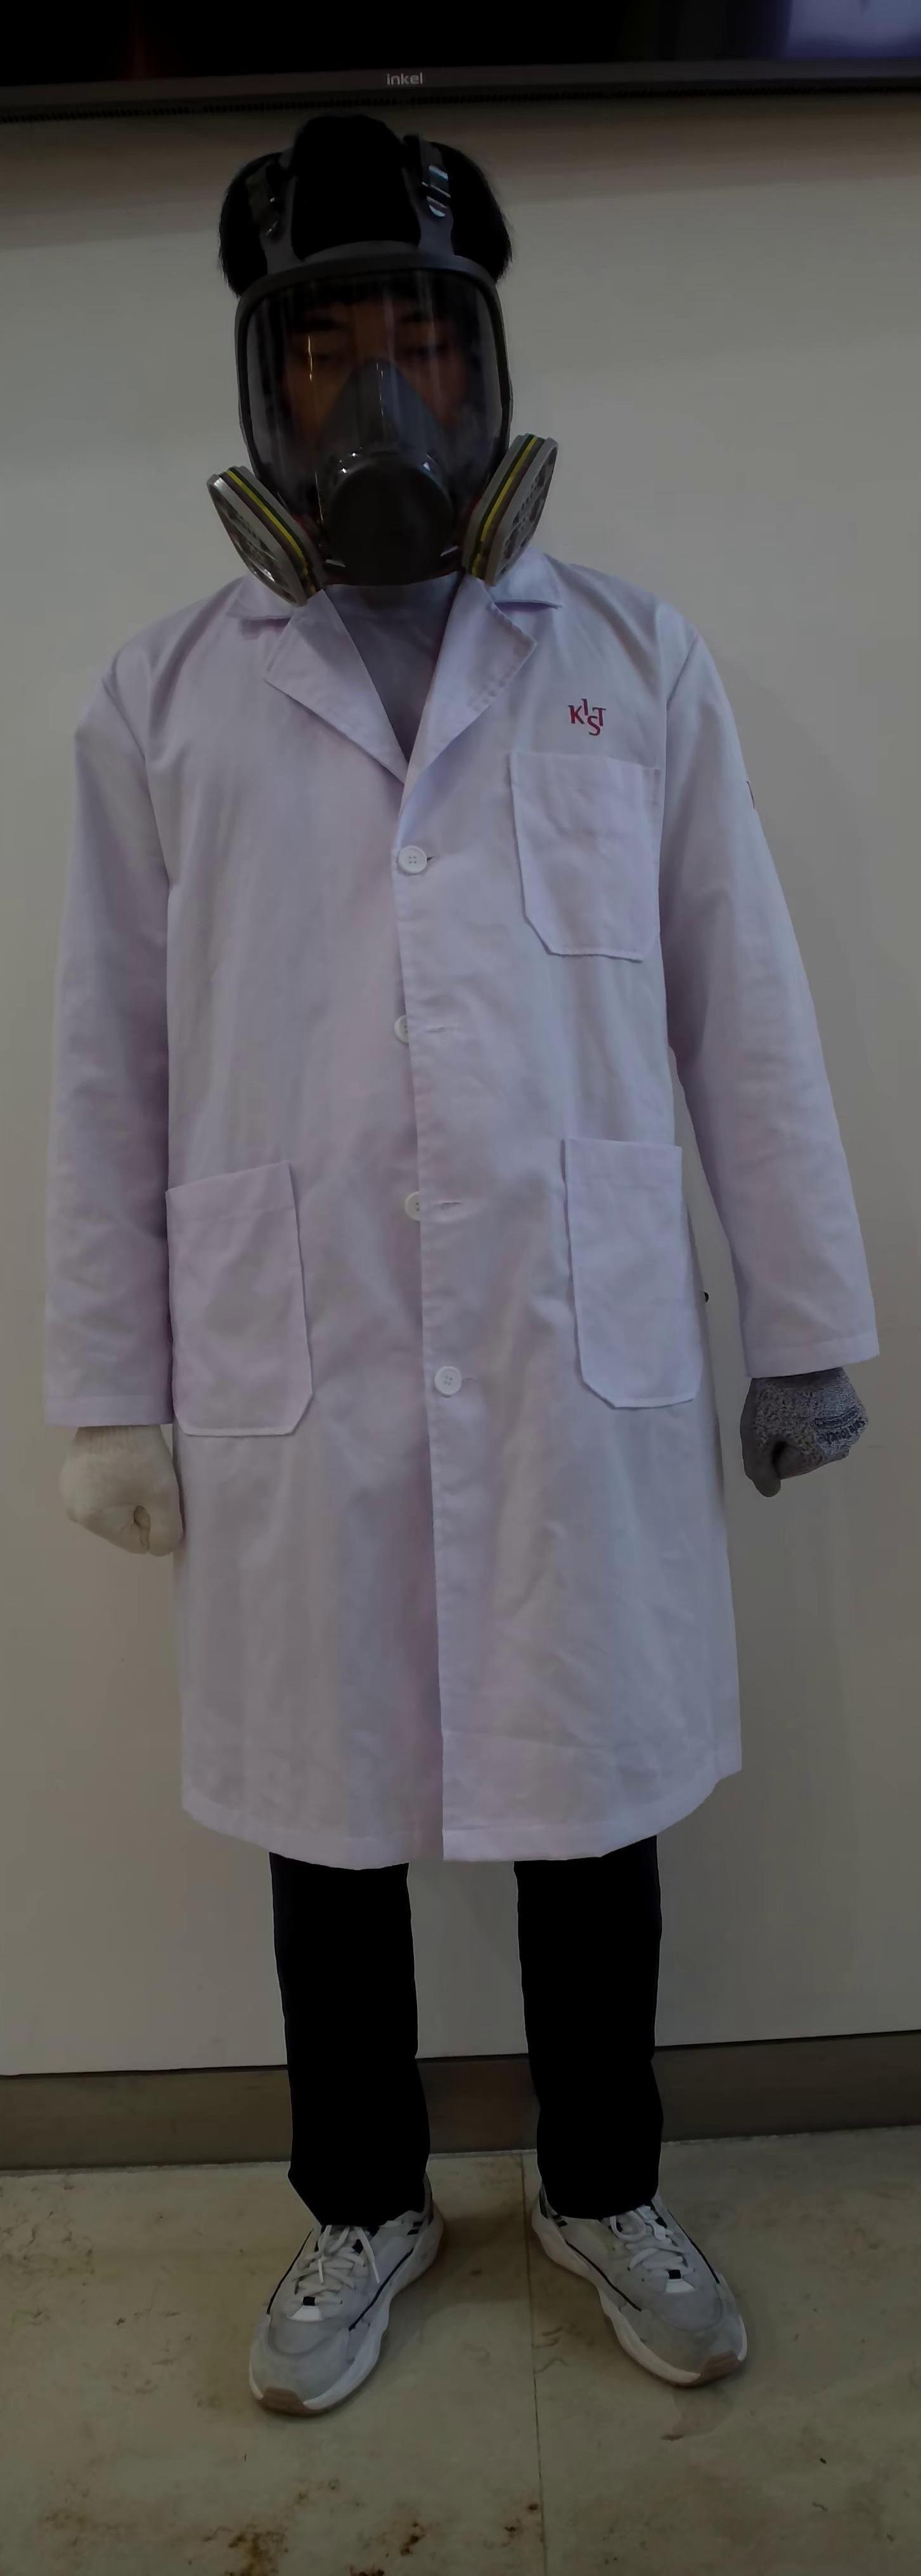lab_coat: (166, 585, 732, 1840)
